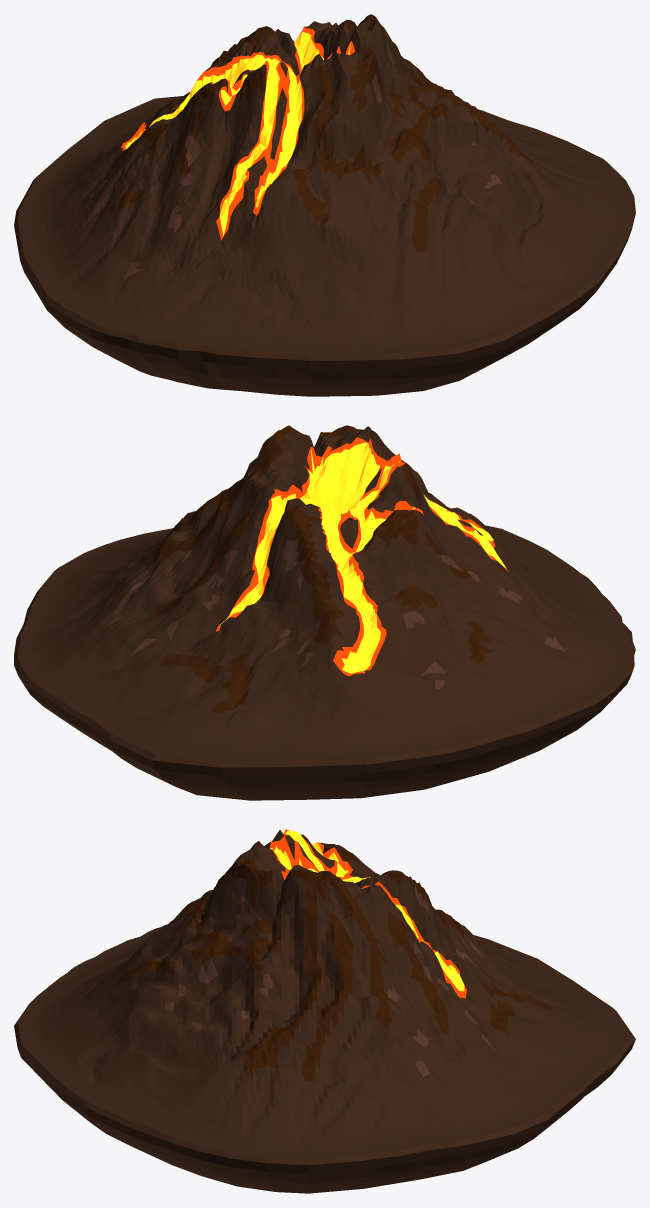
The picture shows the model from 3 angles, top to bottom: view 1: azimuth 30°, elevation 25°; view 2: azimuth 150°, elevation 25°; view 3: azimuth 270°, elevation 25°; orthographic projection. The views are drawn at different scales.
Visible parts, largest first — view 1: Landscape_0, Landscape.001_1; view 2: Landscape_0, Landscape.001_1; view 3: Landscape_0, Landscape.001_1.
Boxes of the visible parts, x1,y1,x2,y2 form: Landscape_0: (18, 14, 631, 355); Landscape.001_1: (14, 160, 635, 396); Landscape_0: (18, 425, 631, 761); Landscape.001_1: (14, 568, 635, 800); Landscape_0: (18, 829, 631, 1159); Landscape.001_1: (14, 997, 635, 1193).
Bounding box in the file's own units: 2.13 × 1.21 × 2.2.
